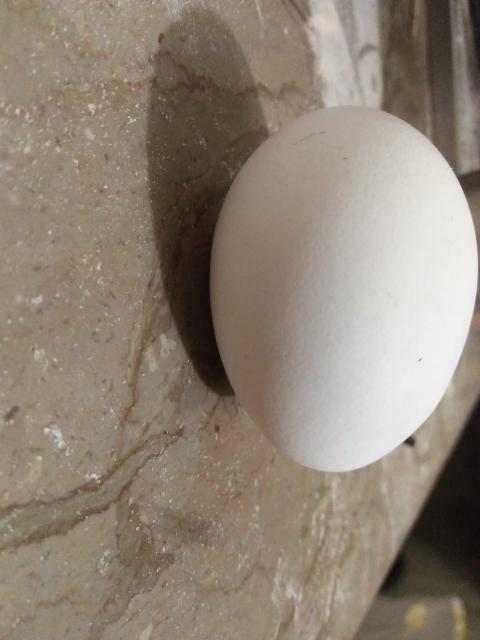Sano: (208, 103, 478, 473)
